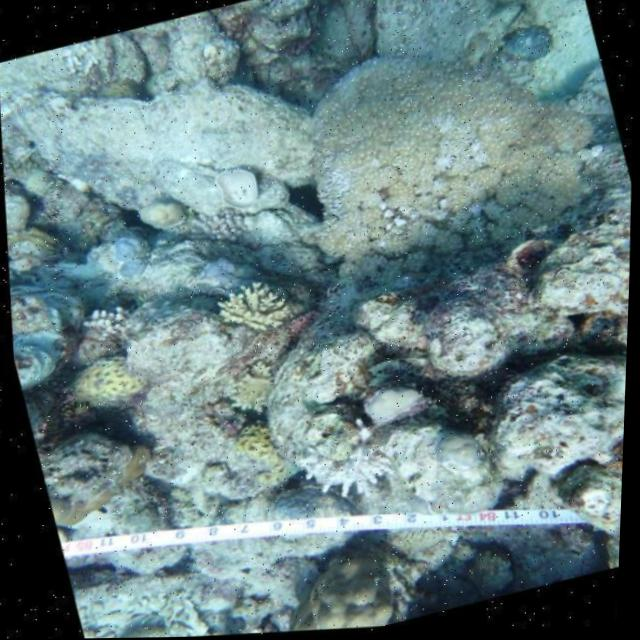Bleached Coral: (270, 108, 524, 296), (274, 389, 428, 525), (55, 291, 147, 347)
